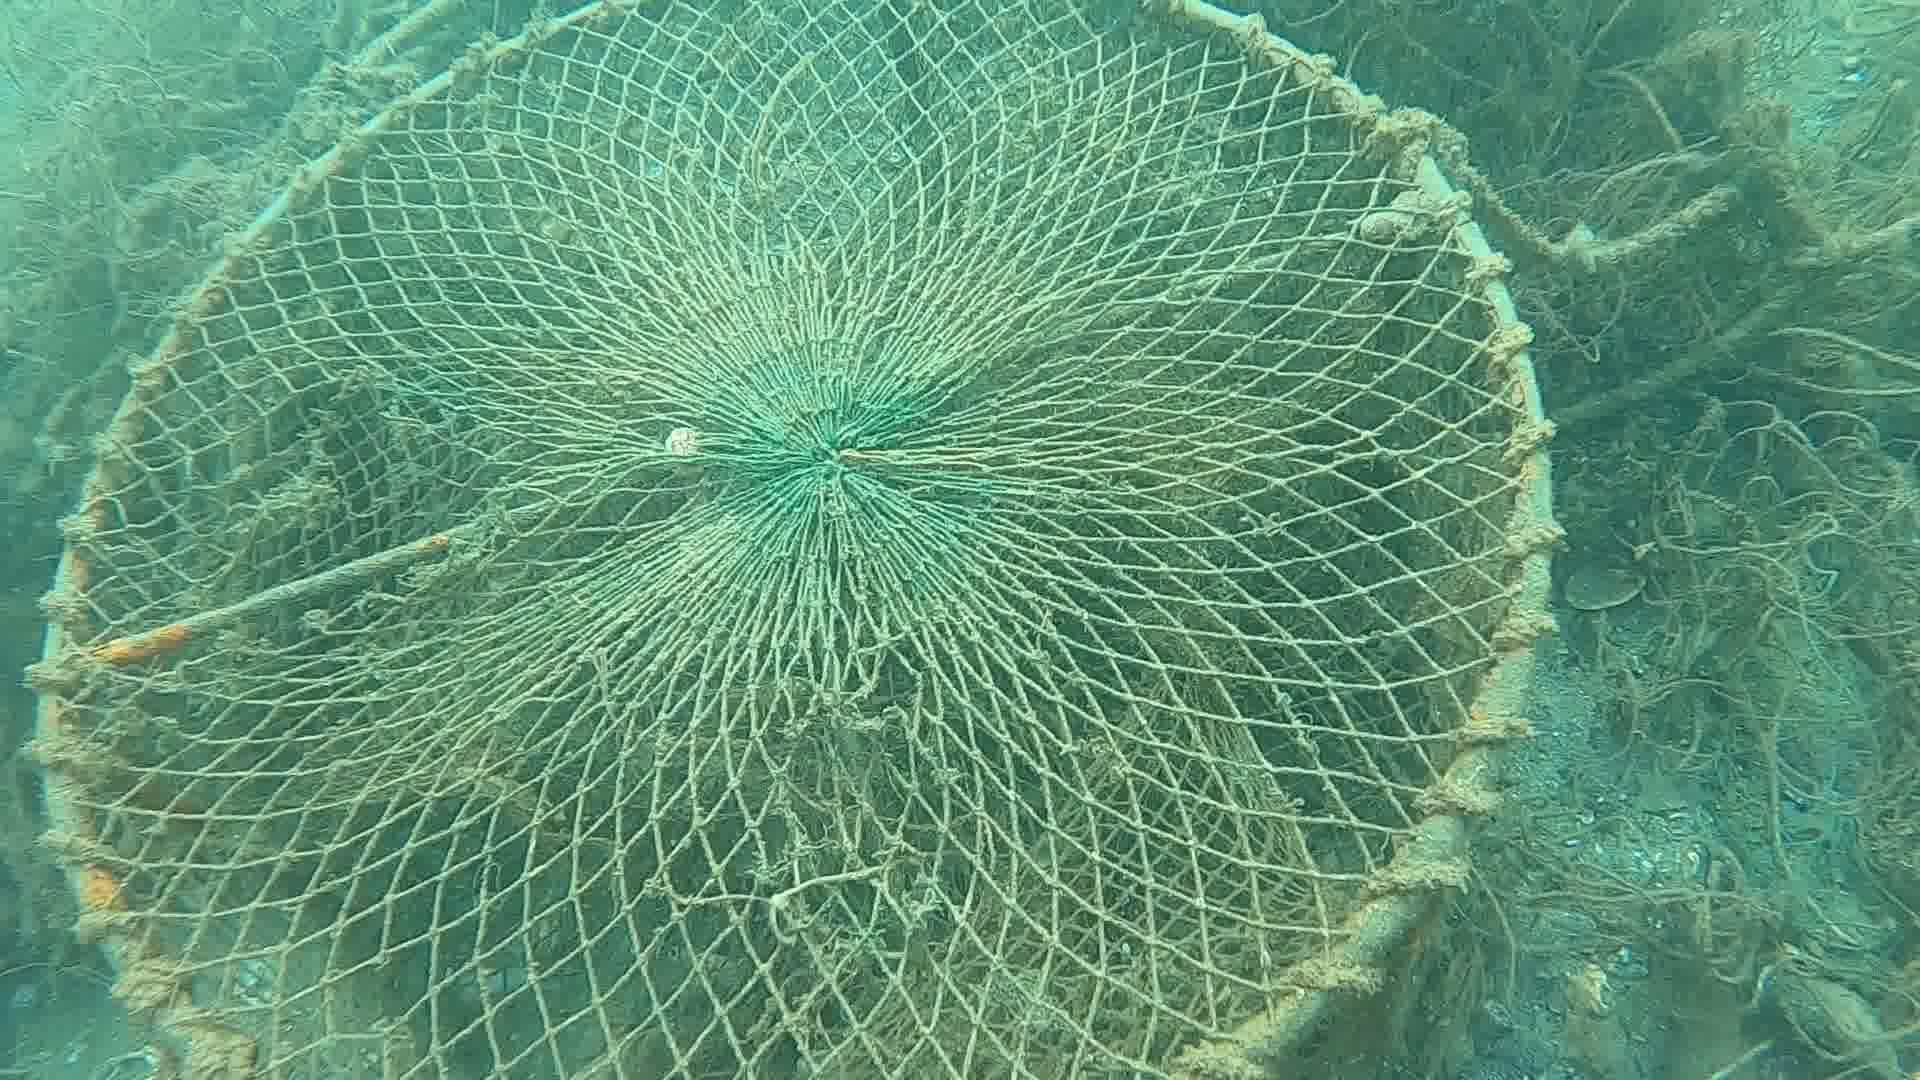circular fish trap: (18, 0, 1571, 1080)
rope: (1443, 127, 1824, 255)
